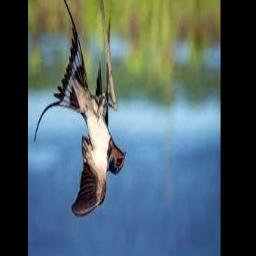Swallow: (34, 0, 125, 216)
